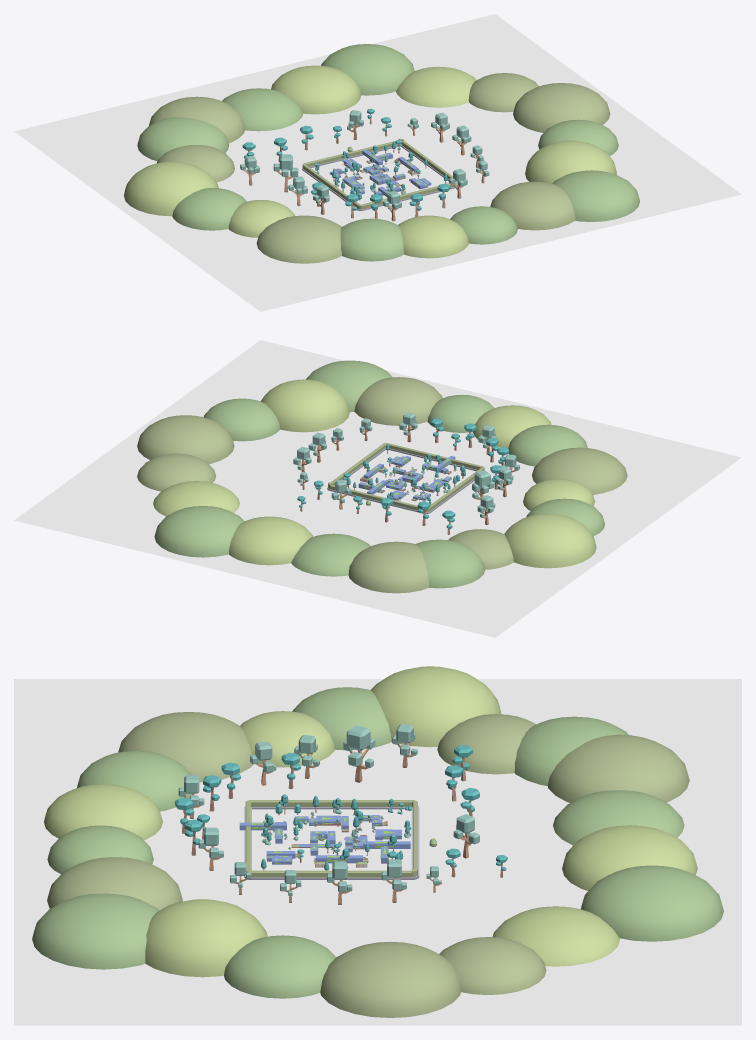
The model's file is garden-client.glb.
The picture shows the model from 3 angles, top to bottom: view 1: azimuth 30°, elevation 25°; view 2: azimuth 150°, elevation 25°; view 3: azimuth 270°, elevation 25°; orthographic projection. The views are drawn at different scales.
Visible parts, largest first — view 1: ground, map; view 2: ground, map; view 3: ground, map.
Boxes of the visible parts, <box> form: ground: <box>14,14,741,311</box>; map: <box>124,44,639,263</box>; ground: <box>14,340,741,637</box>; map: <box>137,360,627,593</box>; ground: <box>14,679,741,1025</box>; map: <box>32,666,723,1017</box>.
Size of the model in its own units: 228 by 19.12 by 202.
